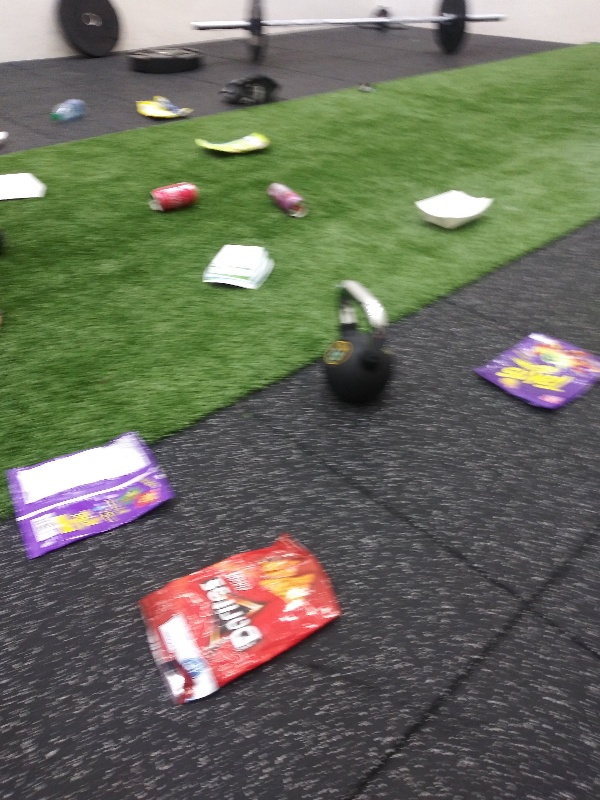bag: (134, 530, 347, 709), (8, 427, 183, 564), (469, 328, 600, 416), (188, 132, 274, 160), (129, 94, 197, 125)
bottle: (45, 95, 88, 125)
can: (263, 179, 311, 222), (144, 181, 202, 216)
plate: (199, 242, 280, 294), (413, 187, 500, 231), (1, 169, 49, 205)
